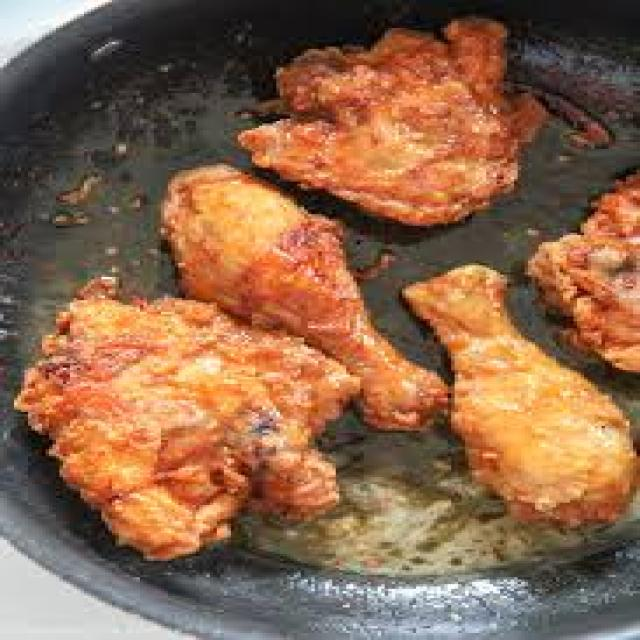Frango: (31, 33, 640, 577)
